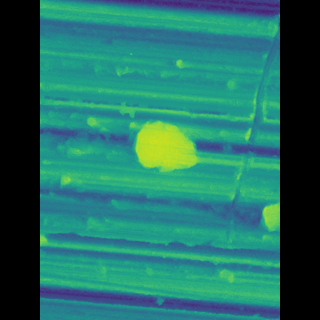Loch: (205, 16, 251, 287), (135, 114, 193, 176)
